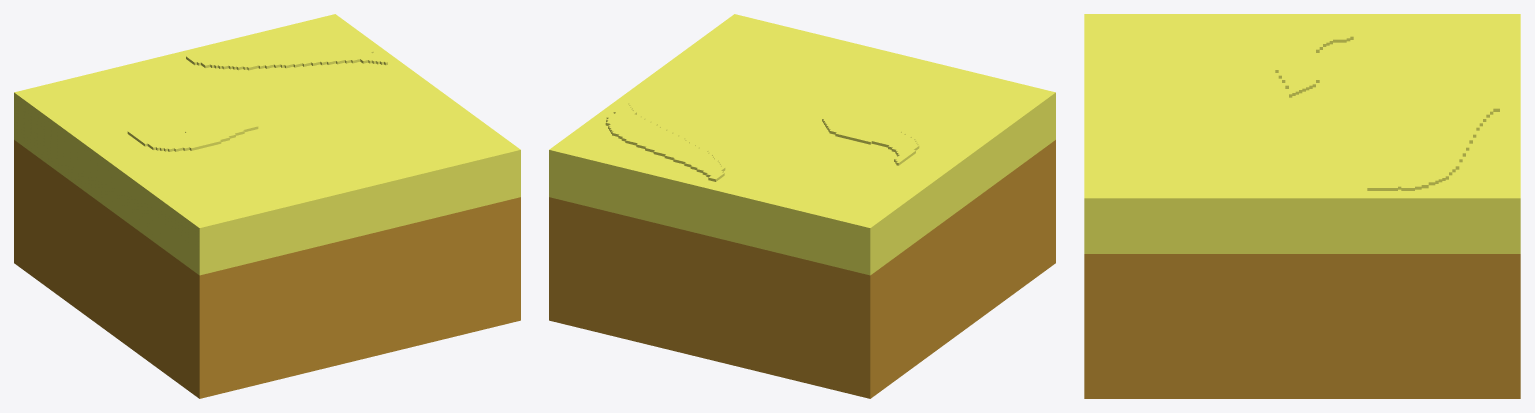
3 renders of one model, left to right at view 1: azimuth 30°, elevation 25°; view 2: azimuth 150°, elevation 25°; view 3: azimuth 270°, elevation 25°, orthographic. The views are drawn at different scales.
Visible parts, largest first — view 1: 1M; view 2: 1M; view 3: 1M.
Part boxes in pixels (left/top/right/bottom): 1M: left=14, top=14, right=520, bottom=398; 1M: left=549, top=14, right=1055, bottom=398; 1M: left=1084, top=14, right=1520, bottom=398.
Bounding box in the file's own units: 12.8 × 6.6 × 12.8.
Materials: 1 (1 with a texture image).
